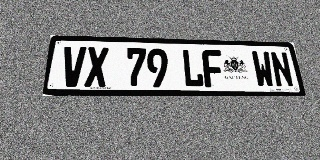7: (125, 48, 147, 87)
9: (147, 48, 169, 87)
F: (202, 50, 225, 87)
L: (181, 49, 204, 87)
N: (269, 51, 295, 88)
V: (60, 46, 86, 87)
W: (251, 51, 276, 88)
X: (84, 47, 109, 87)
